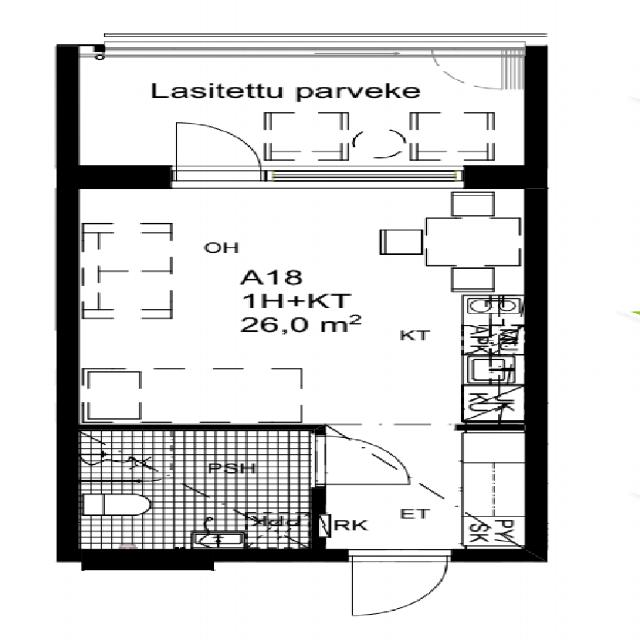door: (351, 549, 445, 615), (176, 117, 260, 188), (315, 436, 409, 484)
